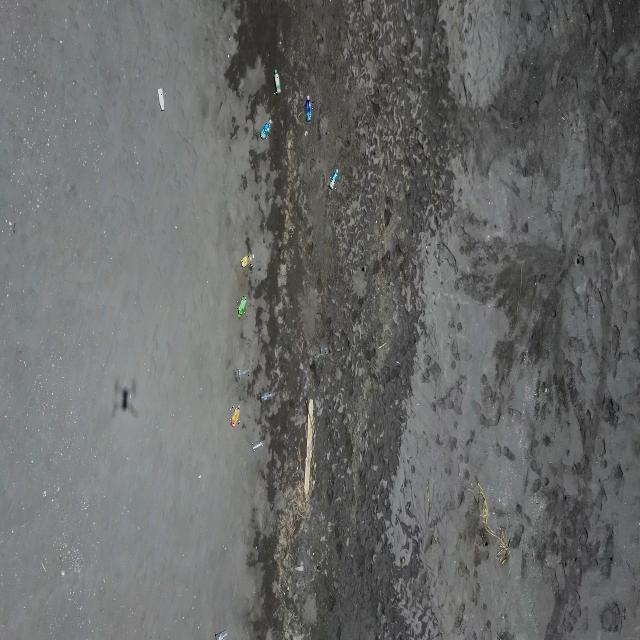plastic-bottle: (304, 95, 313, 123), (261, 117, 272, 139), (230, 406, 240, 427), (237, 296, 247, 316), (157, 88, 165, 112), (241, 254, 254, 268), (330, 169, 338, 189), (274, 69, 280, 94)
takeaway-cup: (260, 390, 273, 402), (238, 366, 249, 380), (214, 630, 228, 640), (251, 441, 263, 452), (320, 343, 331, 355)
